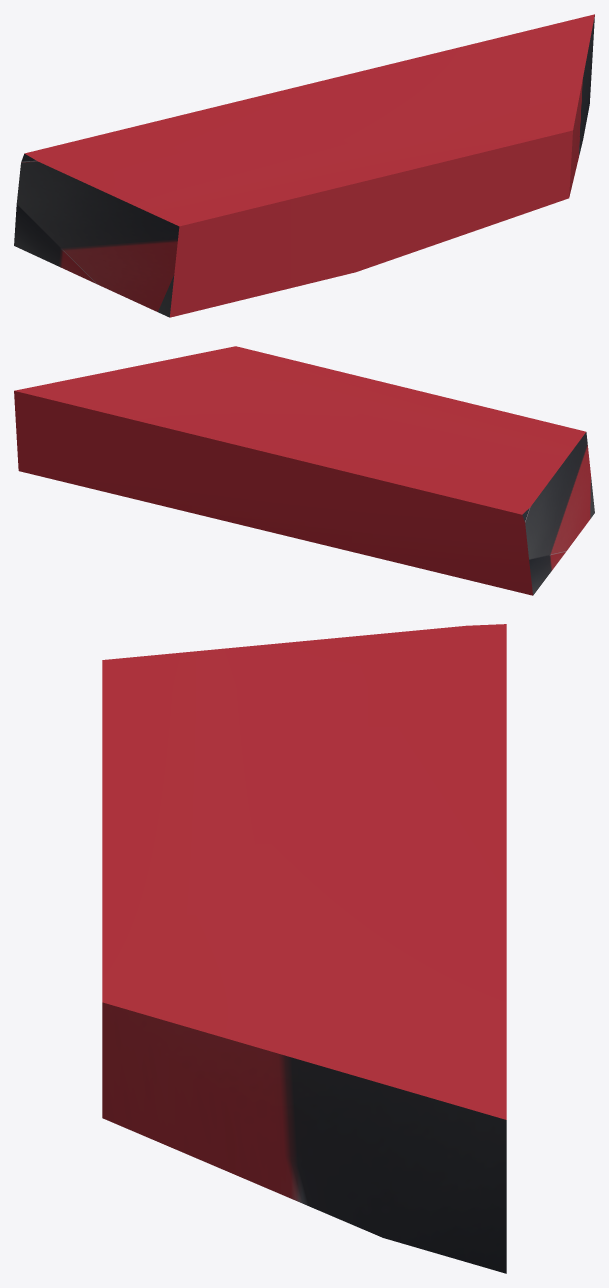
File: torii_broken_033.obj
3 views of the same model, one above another, from view 1: azimuth 30°, elevation 25°; view 2: azimuth 150°, elevation 25°; view 3: azimuth 270°, elevation 25° (orthographic). The views are drawn at different scales.
Visible parts, largest first — view 1: 鳥居.001_cell.032_鳥居.001_cell.019; view 2: 鳥居.001_cell.032_鳥居.001_cell.019; view 3: 鳥居.001_cell.032_鳥居.001_cell.019.
Boxes of the visible parts, box(x1,y1,x2,y2) form: 鳥居.001_cell.032_鳥居.001_cell.019: box(14, 14, 594, 317); 鳥居.001_cell.032_鳥居.001_cell.019: box(14, 346, 594, 595); 鳥居.001_cell.032_鳥居.001_cell.019: box(102, 624, 506, 1273).
Size of the model in its own units: 1.1 by 0.1612 by 0.3731.
1 material, 1 textured.
